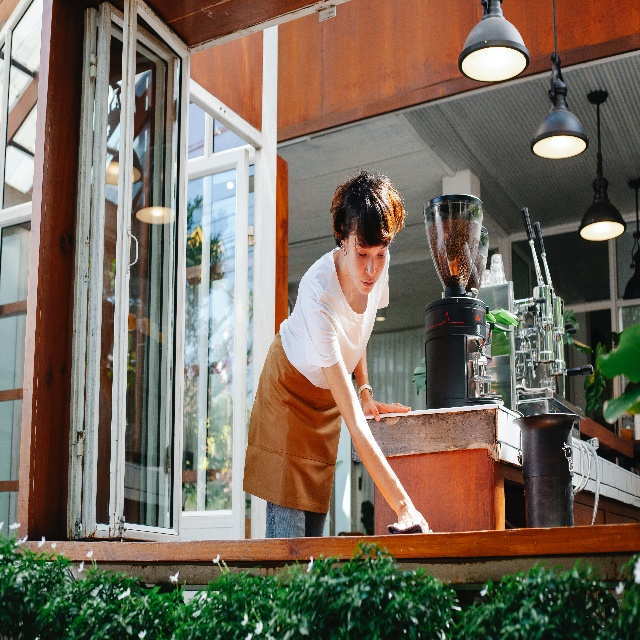Sin_guantes: (362, 398, 411, 421), (393, 507, 429, 529)
